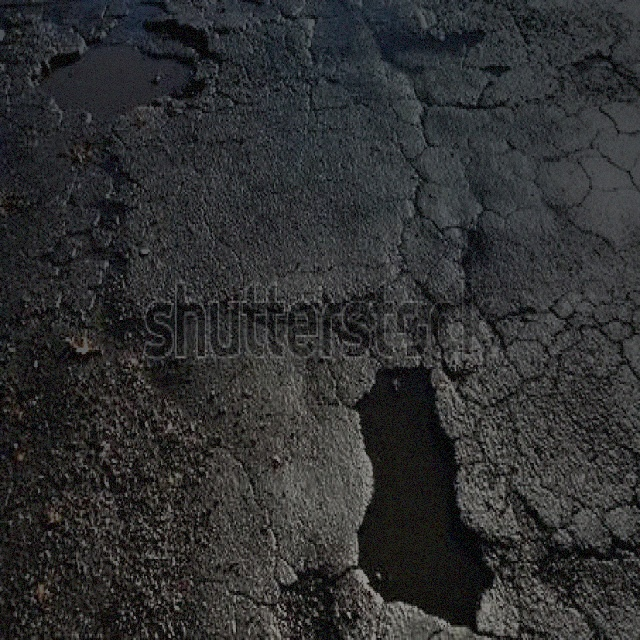pothole: (343, 358, 493, 630), (24, 15, 209, 124), (269, 561, 346, 636), (568, 47, 639, 102)
